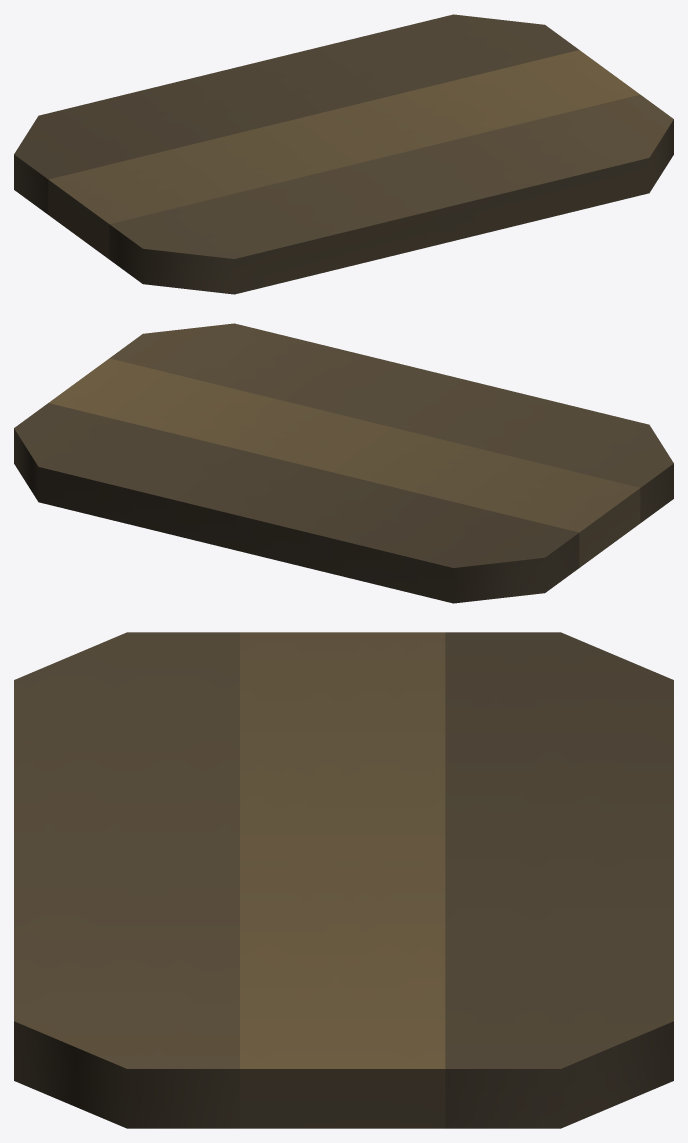
The model's file is cutting_board_wood.fbx.
3 renders of one model, top to bottom at view 1: azimuth 30°, elevation 25°; view 2: azimuth 150°, elevation 25°; view 3: azimuth 270°, elevation 25°, orthographic. The views are drawn at different scales.
Parts seen in each view (by area): view 1: cutting_board_wood; view 2: cutting_board_wood; view 3: cutting_board_wood.
Boxes of the visible parts, <box> form: cutting_board_wood: <box>14,14,673,294</box>; cutting_board_wood: <box>14,323,673,603</box>; cutting_board_wood: <box>14,632,673,1128</box>.
Bounding box in the file's own units: 68.23 × 4.35 × 43.59.
